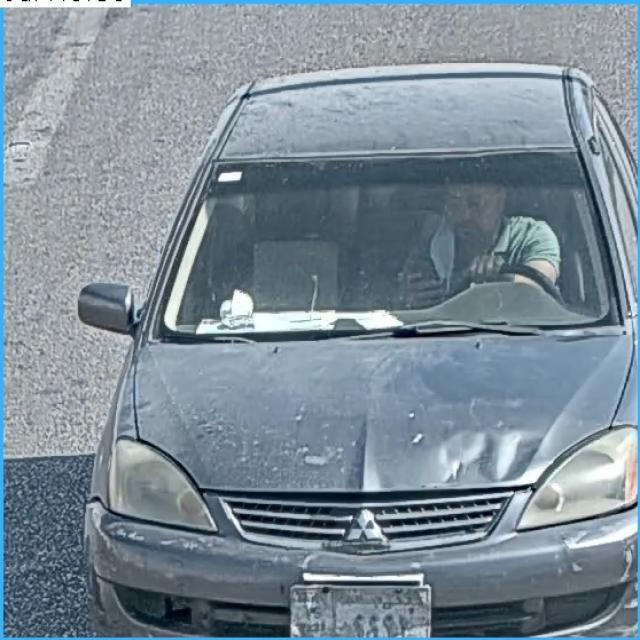windshield: (162, 157, 612, 331)
